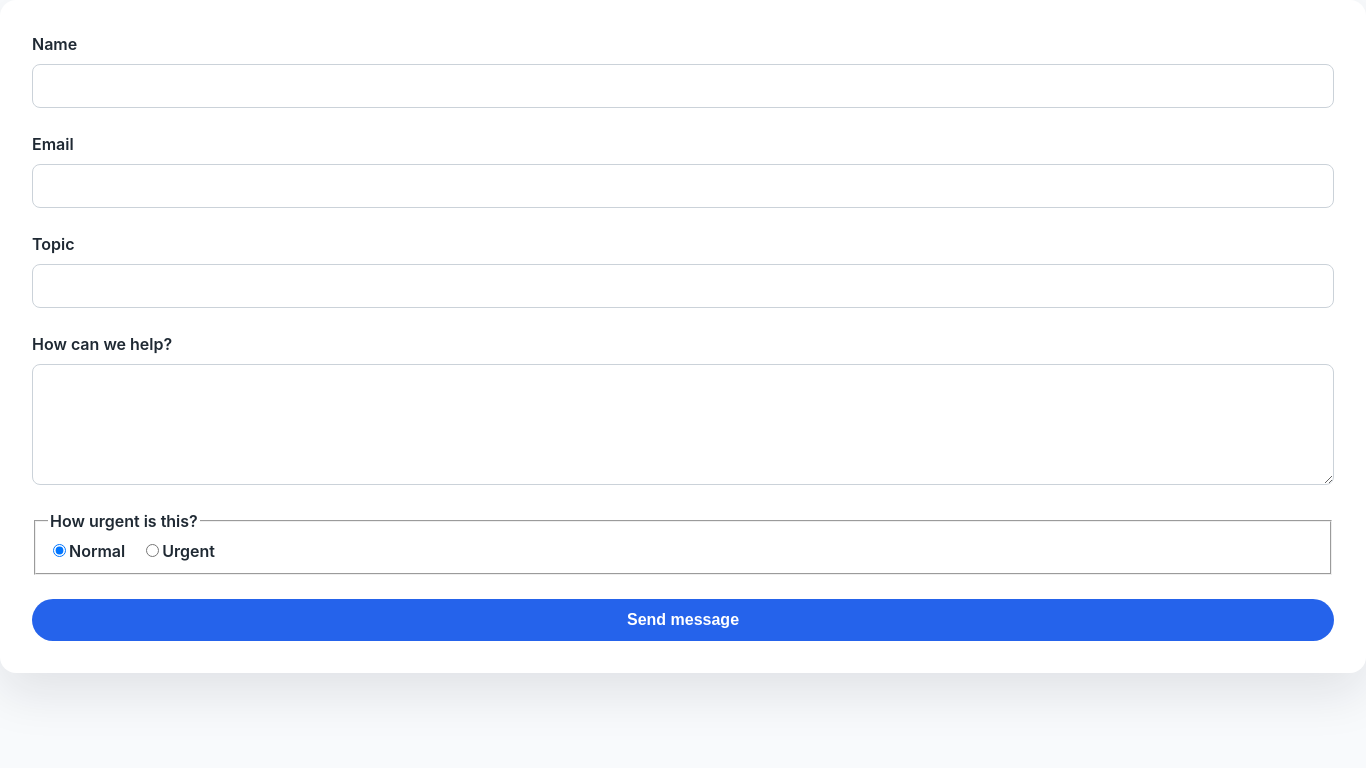
Test case: SupportForm › shows inline errors when submitting empty form
Click the button "Send message".
click(683, 620)  # box [32, 599, 1334, 641]
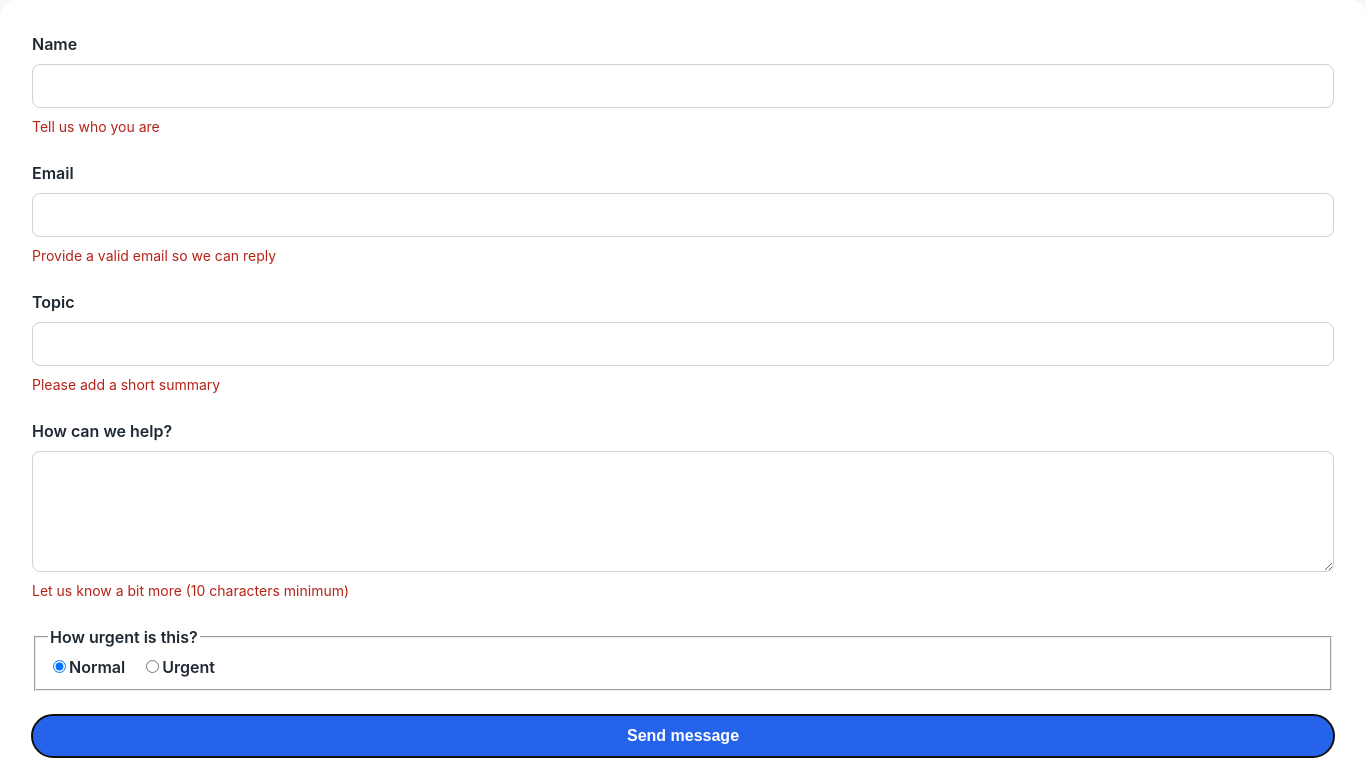
Expected: the text "Tell us who you are" is shown, [32, 118, 160, 135]
Expected: the text "Provide a valid email so we can reply" is shown, [32, 247, 276, 264]
Expected: the text "Please add a short summary" is shown, [32, 376, 220, 393]
